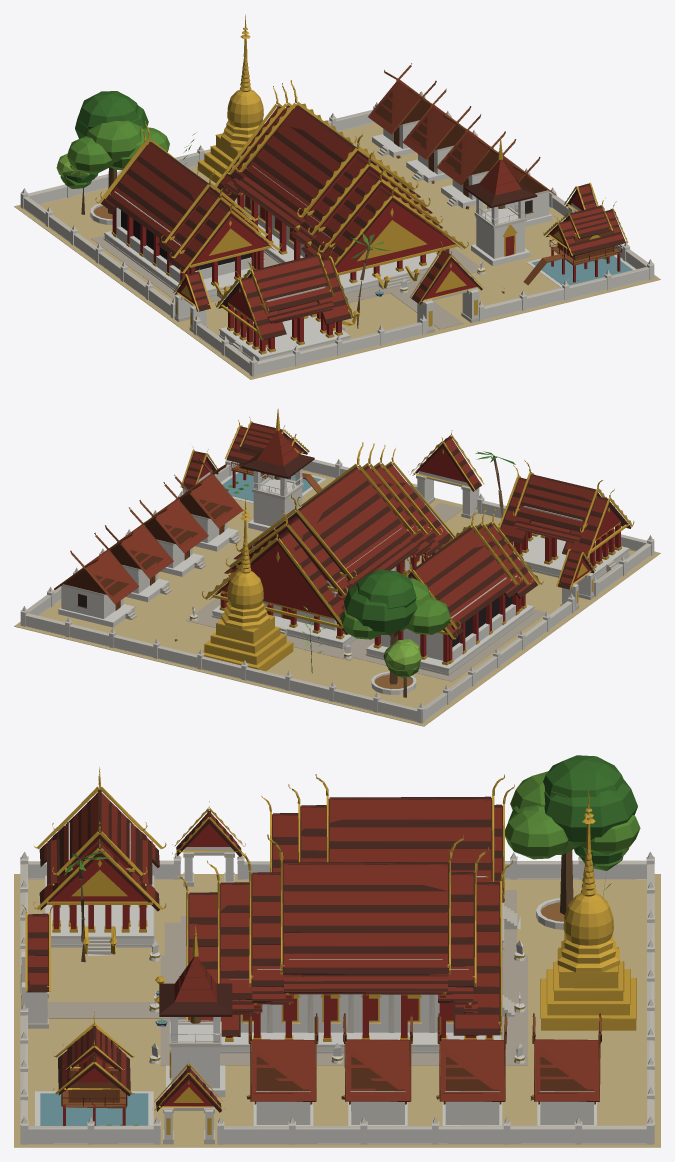
File: temple_3.glb
3 views of the same model, one above another, from view 1: azimuth 30°, elevation 25°; view 2: azimuth 150°, elevation 25°; view 3: azimuth 270°, elevation 25° (orthographic). The views are drawn at different scales.
Visible parts, largest first — view 1: body; view 2: body; view 3: body.
Boxes of the visible parts, x1=… form: body: x1=14, y1=14, x2=660, y2=379; body: x1=14, y1=408, x2=660, y2=726; body: x1=14, y1=755, x2=660, y2=1147.
Size of the model in its own units: 47.9 by 18.35 by 47.9.
